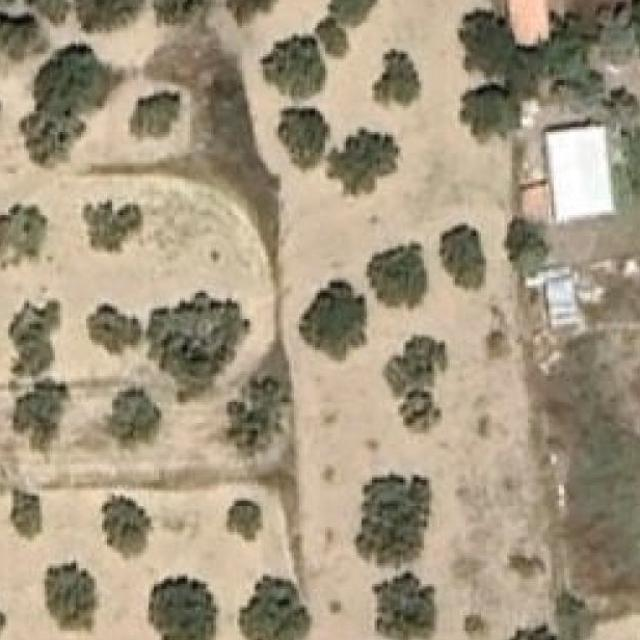Tree: (151, 298, 244, 392), (351, 473, 434, 569), (332, 127, 400, 199), (36, 52, 114, 114), (237, 575, 310, 640), (147, 575, 220, 640), (228, 376, 286, 454), (0, 201, 63, 272), (371, 573, 437, 640), (298, 283, 364, 348), (258, 35, 328, 96), (12, 379, 68, 455), (42, 561, 98, 637), (367, 241, 427, 309), (102, 494, 159, 561), (8, 301, 58, 377), (276, 106, 330, 171), (104, 386, 161, 447), (467, 83, 528, 138), (439, 222, 486, 293), (24, 111, 84, 163), (372, 49, 422, 111), (83, 200, 140, 252), (81, 308, 138, 356), (128, 96, 188, 140), (389, 338, 436, 392), (507, 220, 549, 276), (73, 0, 143, 33), (465, 17, 507, 70), (0, 13, 45, 57), (10, 488, 42, 544), (328, 0, 381, 30), (223, 501, 260, 540), (226, 0, 276, 26), (405, 395, 442, 429), (556, 589, 590, 626), (164, 0, 216, 20), (26, 0, 71, 23), (320, 21, 346, 55), (460, 610, 490, 639), (512, 625, 554, 640), (0, 589, 6, 640)
